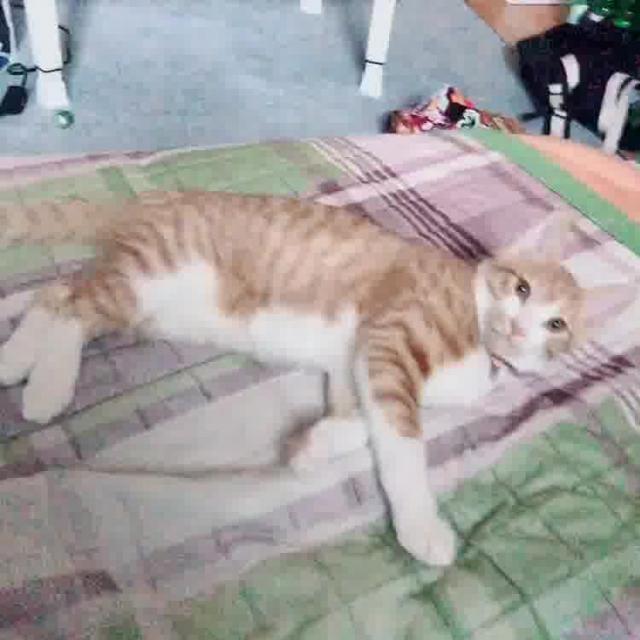cat: (0, 151, 637, 576)
